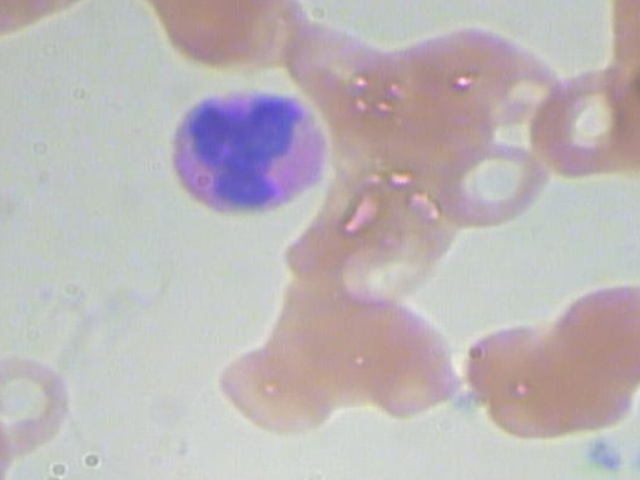Platelets: (583, 432, 630, 476), (628, 436, 640, 480)
RBC: (517, 64, 640, 184), (275, 13, 399, 124), (344, 312, 463, 423), (454, 311, 573, 422), (218, 338, 346, 439), (433, 133, 553, 230), (552, 269, 640, 386), (0, 342, 81, 462)
WBC: (148, 72, 340, 231)
